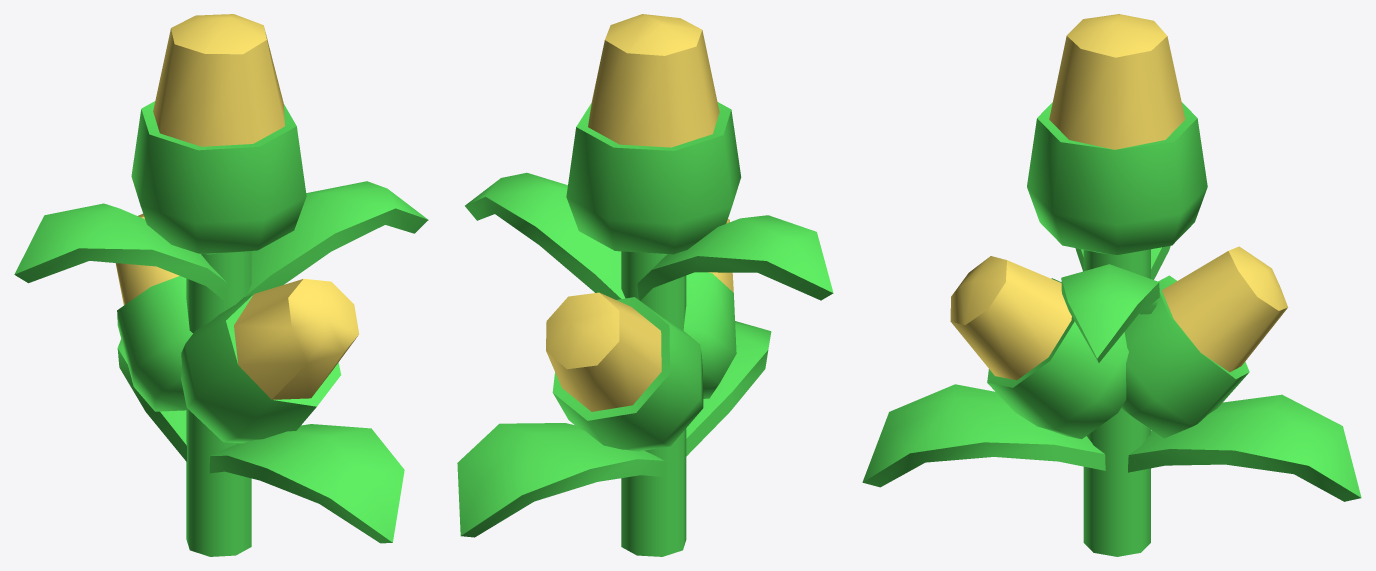
File: Corn.fbx
3 renders of one model, left to right at view 1: azimuth 30°, elevation 25°; view 2: azimuth 150°, elevation 25°; view 3: azimuth 270°, elevation 25°, orthographic.
Visible parts, largest first — view 1: Corn; view 2: Corn; view 3: Corn.
Boxes of the visible parts, left/top/right/bottom form: Corn: left=14, top=14, right=428, bottom=556; Corn: left=457, top=14, right=833, bottom=556; Corn: left=862, top=14, right=1361, bottom=556.
Size of the model in its own units: 126 by 161 by 139.
